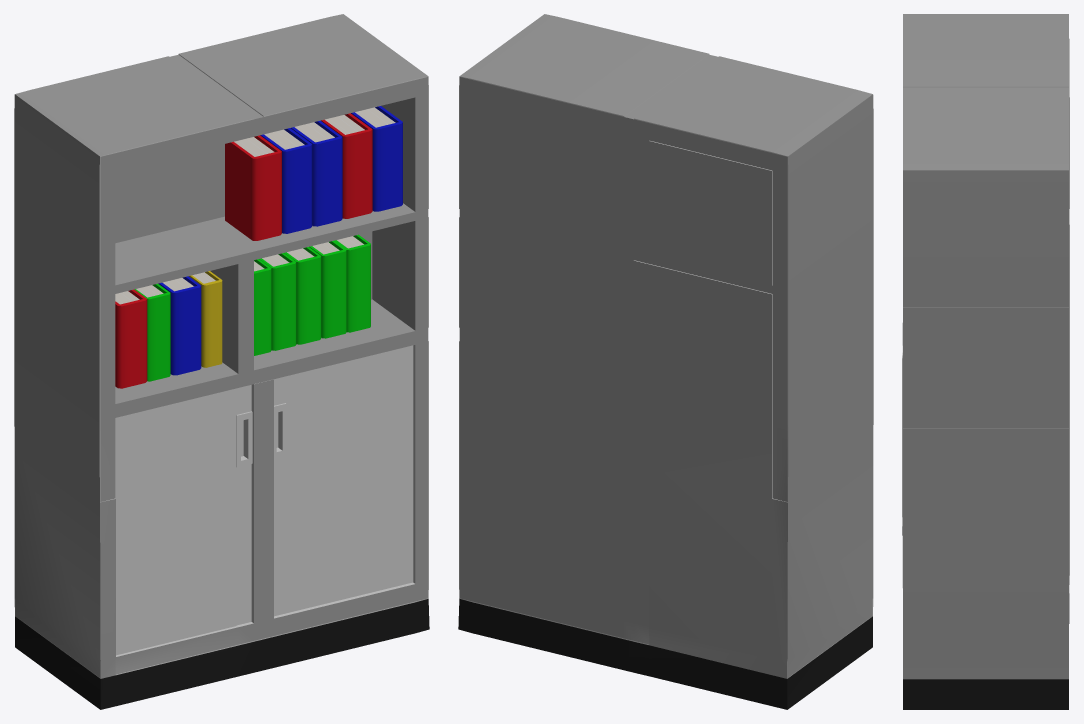
File: tana2.fbx
3 views of the same model, side by side, from view 1: azimuth 30°, elevation 25°; view 2: azimuth 150°, elevation 25°; view 3: azimuth 270°, elevation 25° (orthographic). The views are drawn at different scales.
Visible parts, largest first — view 1: obj1; view 2: obj1; view 3: obj1.
Part boxes in pixels (bbox=[...]): obj1: bbox=[14, 14, 429, 709]; obj1: bbox=[458, 14, 873, 709]; obj1: bbox=[902, 14, 1069, 709].
Bounding box in the file's own units: 201 × 323 × 91.09.
